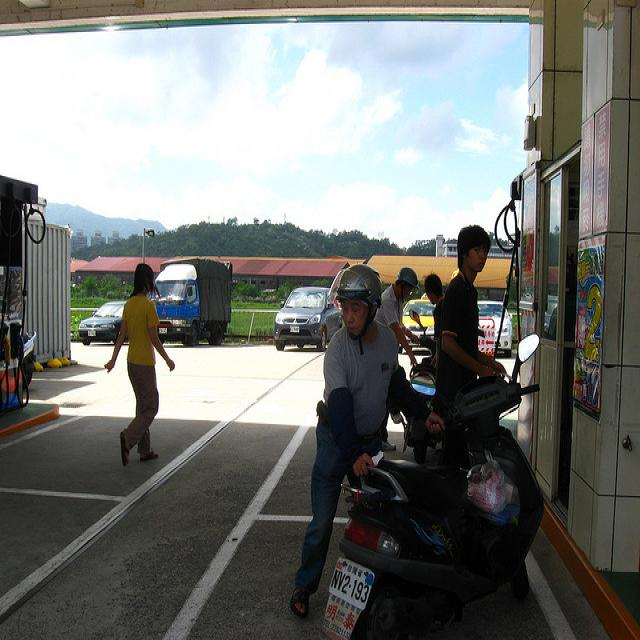motor: (315, 338, 548, 640)
